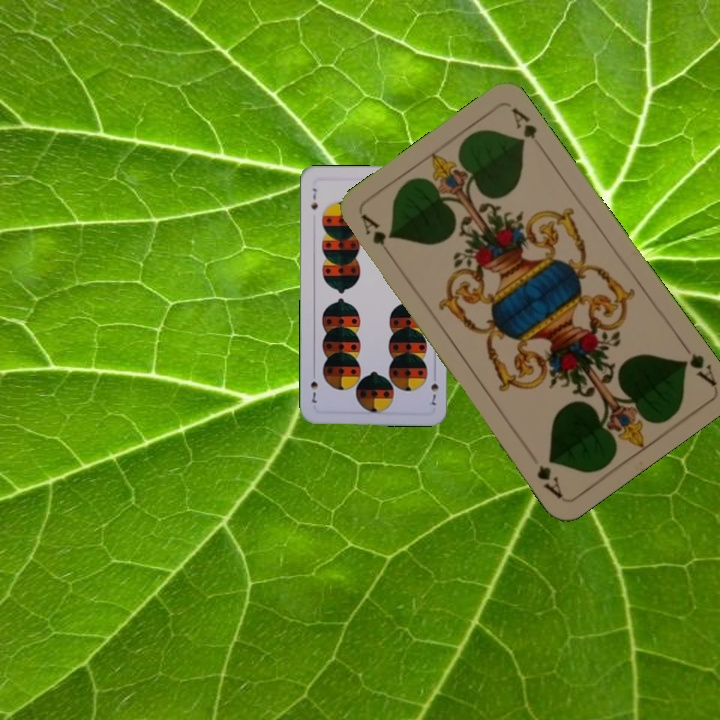GA: (676, 337, 719, 388), (357, 210, 397, 262)
S7: (425, 369, 441, 409), (307, 184, 320, 212)
